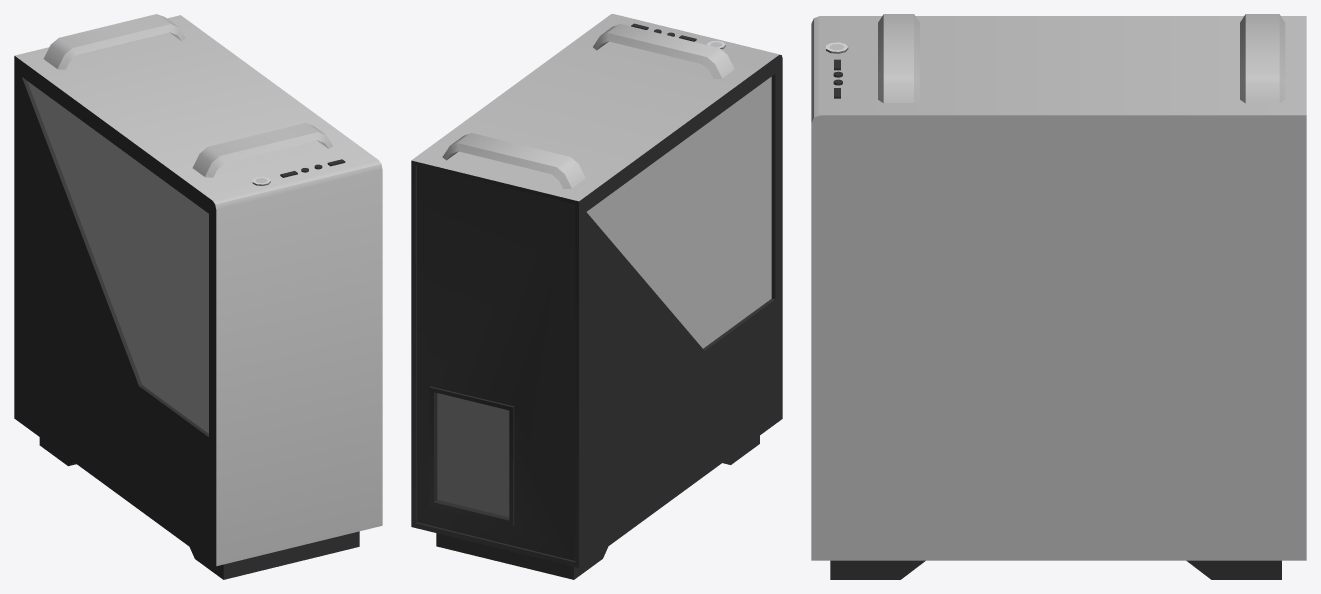
The model's file is computer_4.glb.
3 renders of one model, left to right at view 1: azimuth 30°, elevation 25°; view 2: azimuth 150°, elevation 25°; view 3: azimuth 270°, elevation 25°, orthographic. The views are drawn at different scales.
Visible parts, largest first — view 1: PC Case 1; view 2: PC Case 1; view 3: PC Case 1.
Boxes of the visible parts, x1,y1,x2,y2 form: PC Case 1: [14, 14, 382, 579]; PC Case 1: [411, 14, 782, 579]; PC Case 1: [811, 14, 1306, 579].
Bounding box in the file's own units: 0.227 × 0.5266 × 0.4772.
1 material, 1 textured.
